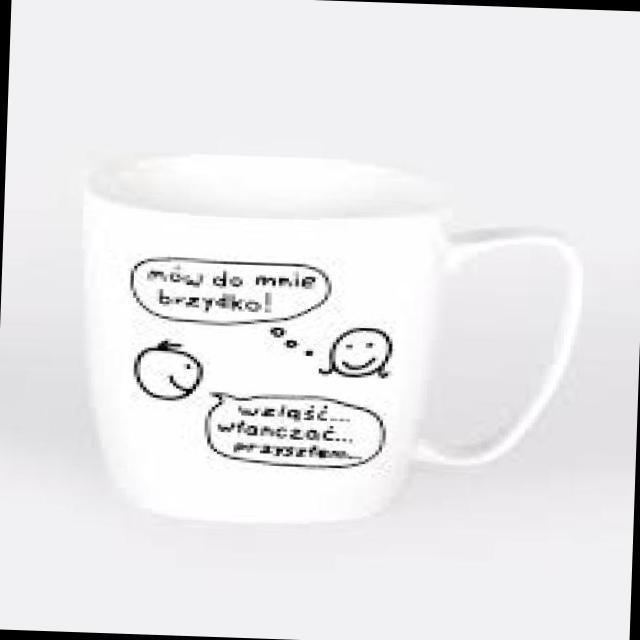taza: (56, 146, 596, 536)
